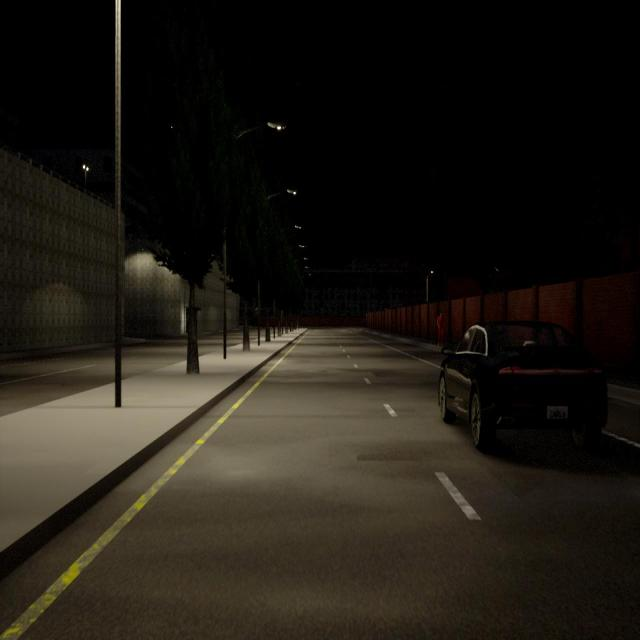Vehicle: (439, 320, 604, 446)
